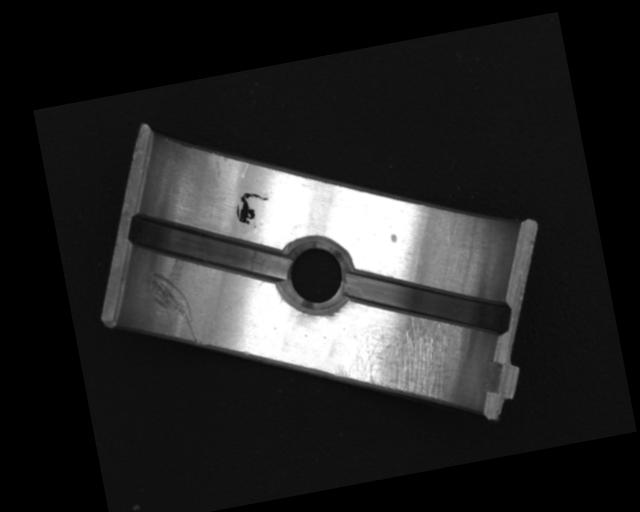blot: (232, 187, 274, 227)
bruise: (389, 232, 399, 244)
gap: (343, 243, 514, 361), (122, 188, 292, 306)
hole: (276, 233, 356, 314)
nick: (144, 264, 200, 351)
scratch: (333, 307, 476, 417)
